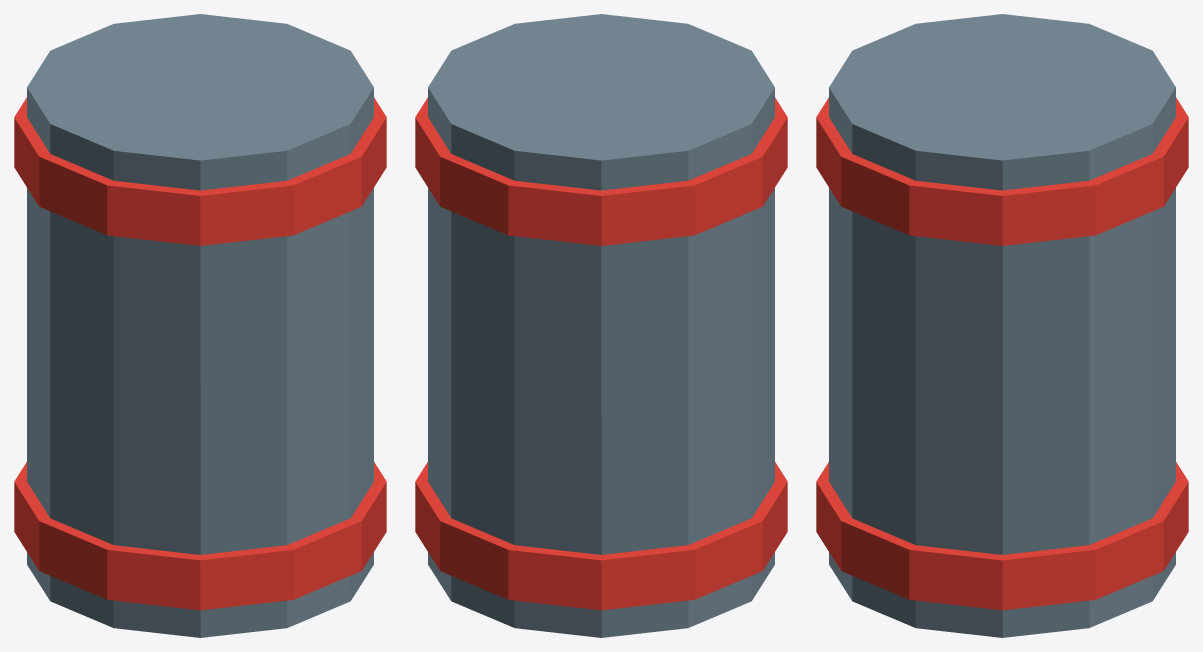
Rendered from Explosive Barrel.obj.
3 renders of one model, left to right at view 1: azimuth 30°, elevation 25°; view 2: azimuth 150°, elevation 25°; view 3: azimuth 270°, elevation 25°, orthographic.
Bounding box in the file's own units: 0.29 × 0.41 × 0.29.
